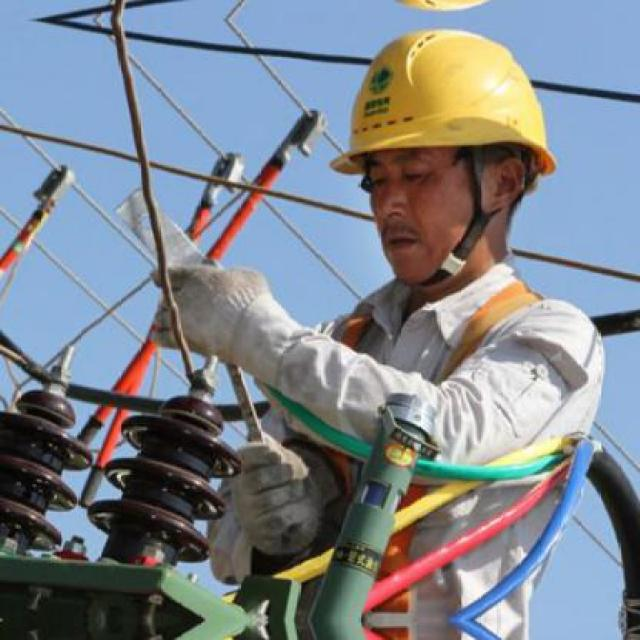helmet: (318, 22, 571, 290)
